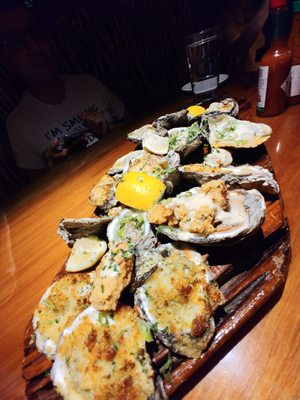pizza: (182, 26, 223, 96)
